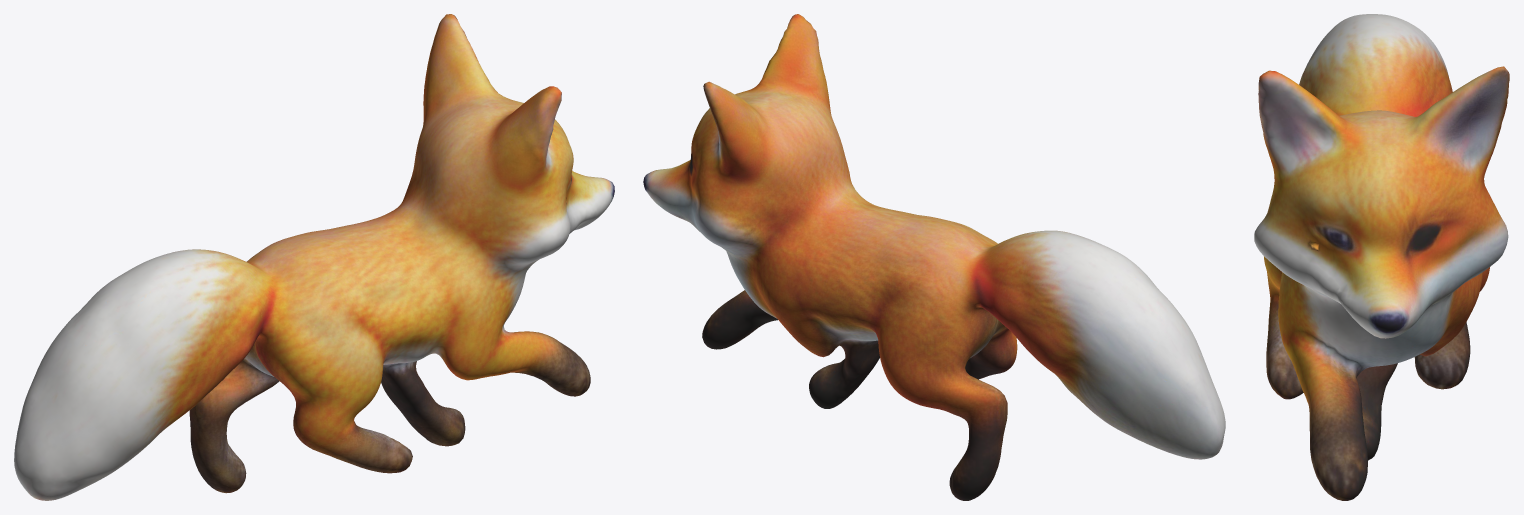
File: Fox.glb
3 renders of one model, left to right at view 1: azimuth 30°, elevation 25°; view 2: azimuth 150°, elevation 25°; view 3: azimuth 270°, elevation 25°, orthographic. The views are drawn at different scales.
Visible parts, largest first — view 1: Mesh1; view 2: Mesh1; view 3: Mesh1.
Boxes of the visible parts, x1,y1,x2,y2 form: Mesh1: (14,14,614,500); Mesh1: (643,14,1225,500); Mesh1: (1254,14,1509,500).
Bounding box in the file's own units: 1.2 × 0.7567 × 0.38.
Materials: 1 (1 with a texture image).
